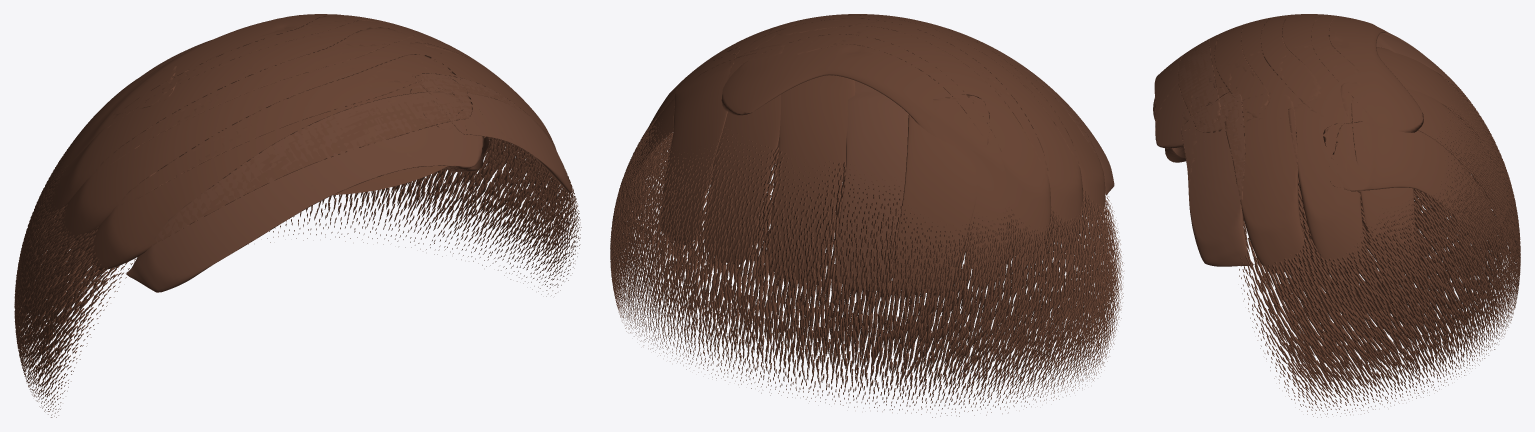
The model's file is Masculine-taper-cap254-hair.glb.
3 views of the same model, side by side, from view 1: azimuth 30°, elevation 25°; view 2: azimuth 150°, elevation 25°; view 3: azimuth 270°, elevation 25° (orthographic). The views are drawn at different scales.
Visible parts, largest first — view 1: 226 hair / Hair252 / sculpted locks, 226 hair / Hair252 / gentle tonal variation, 226 hair / Hair254 / rooted short groom; view 2: 226 hair / Hair254 / rooted short groom, 226 hair / Hair252 / sculpted locks, 226 hair / Hair252 / gentle tonal variation; view 3: 226 hair / Hair252 / sculpted locks, 226 hair / Hair254 / rooted short groom, 226 hair / Hair252 / gentle tonal variation.
Boxes of the visible parts, x1,y1,x2,y2 form: 226 hair / Hair252 / sculpted locks: (36, 14, 556, 270); 226 hair / Hair252 / gentle tonal variation: (126, 40, 571, 292); 226 hair / Hair254 / rooted short groom: (14, 136, 581, 417); 226 hair / Hair254 / rooted short groom: (610, 113, 1123, 417); 226 hair / Hair252 / sculpted locks: (629, 14, 1105, 293); 226 hair / Hair252 / gentle tonal variation: (835, 22, 1114, 290); 226 hair / Hair252 / sculpted locks: (1178, 14, 1506, 276); 226 hair / Hair254 / rooted short groom: (1153, 72, 1520, 417); 226 hair / Hair252 / gentle tonal variation: (1154, 33, 1468, 266).
Size of the model in its own units: 0.9716 by 0.5806 by 0.7016.
